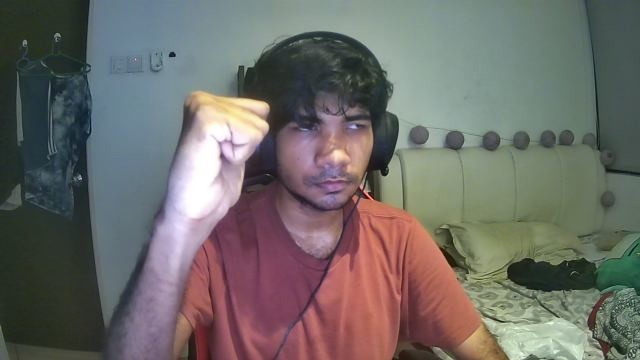Goodbye: (160, 86, 276, 220)
